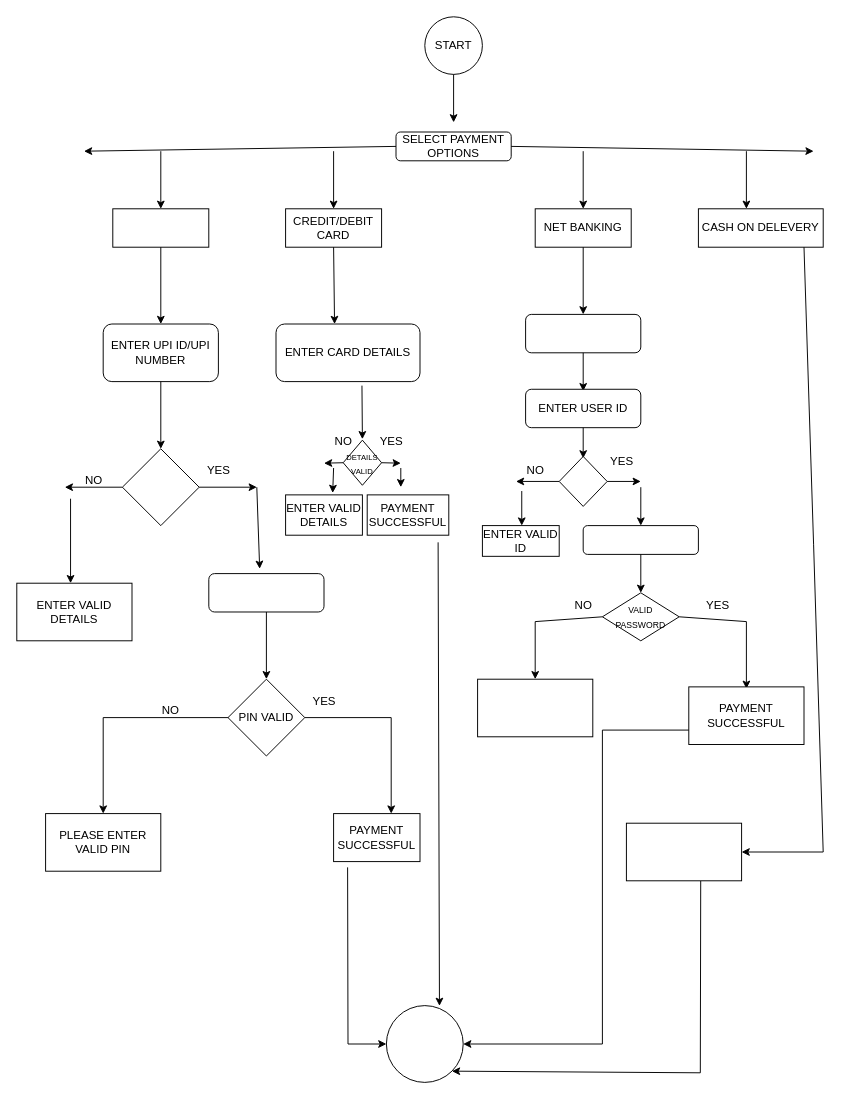
This 848x1099 diagram has some shape labels left out. The shapes that lost their labels are listed below. From the top down, each one's centre as x and y in pixels, then its label:
At point 160,227: "UPI".
At point 583,333: "SELECT BANK".
At point 160,487: "UPI VALID".
At point 582,481: "ID VALID".
At point 640,539: "ENTER PASSWORD".
At point 266,592: "ENTER UPI PIN".
At point 535,707: "PLEASE ENTER VALID PSW".
At point 683,851: "ORDER PLACED".
At point 424,1043: "END".
